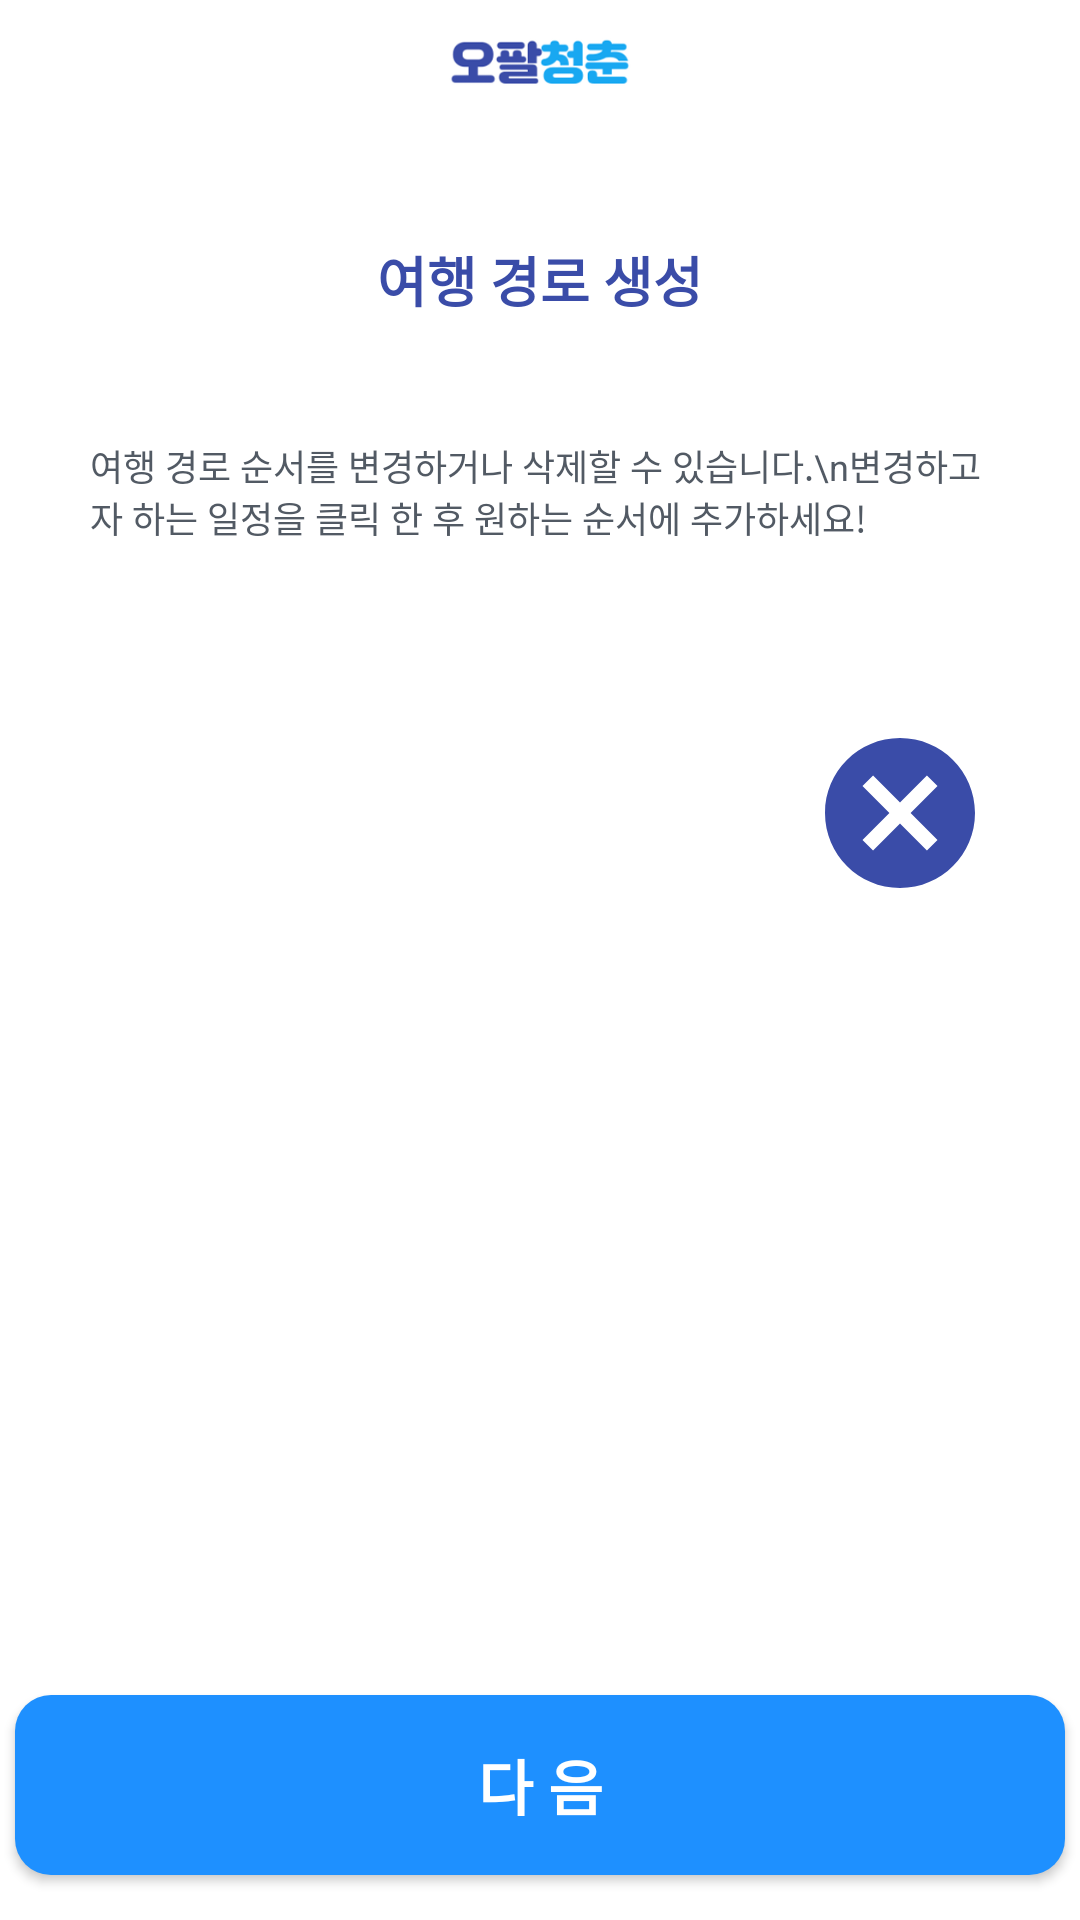

Point at icon controls on the screen. Image size 1080x1920, points as (x,y).
cancel: (900,813)
